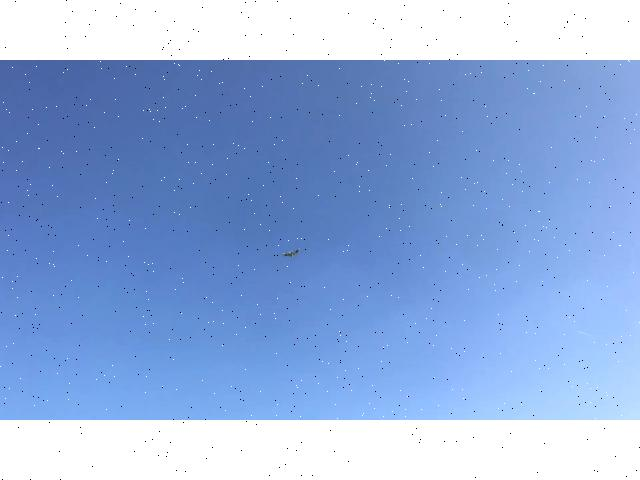Anti-Drone: (274, 236, 308, 262)
